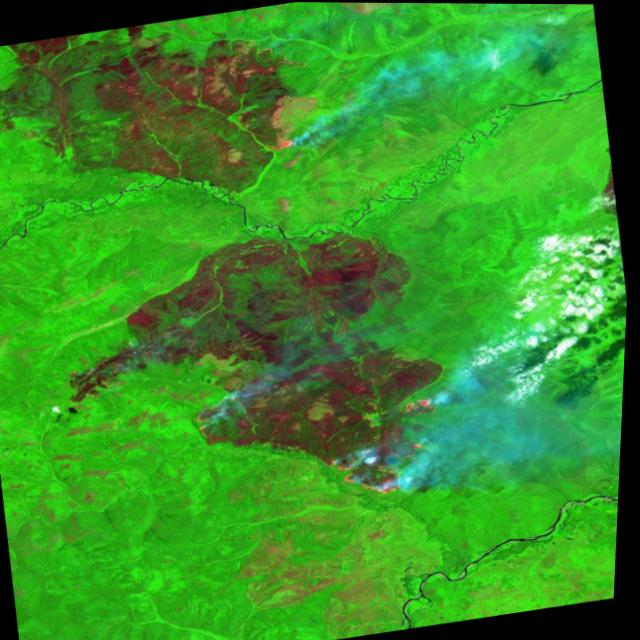fire: (319, 394, 460, 504), (260, 127, 308, 159)
